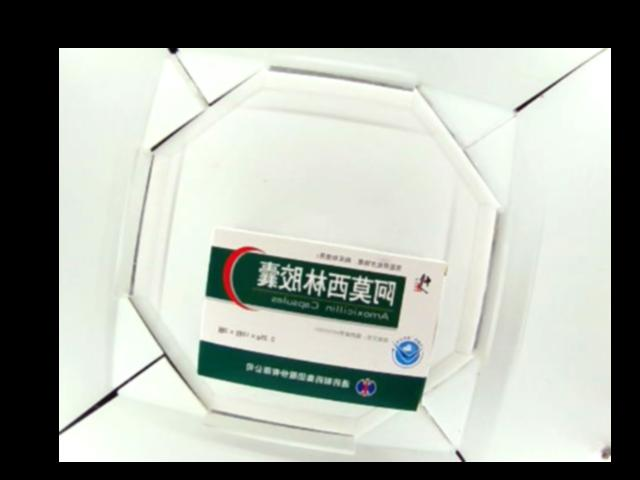Medicine: (196, 225, 448, 411)
